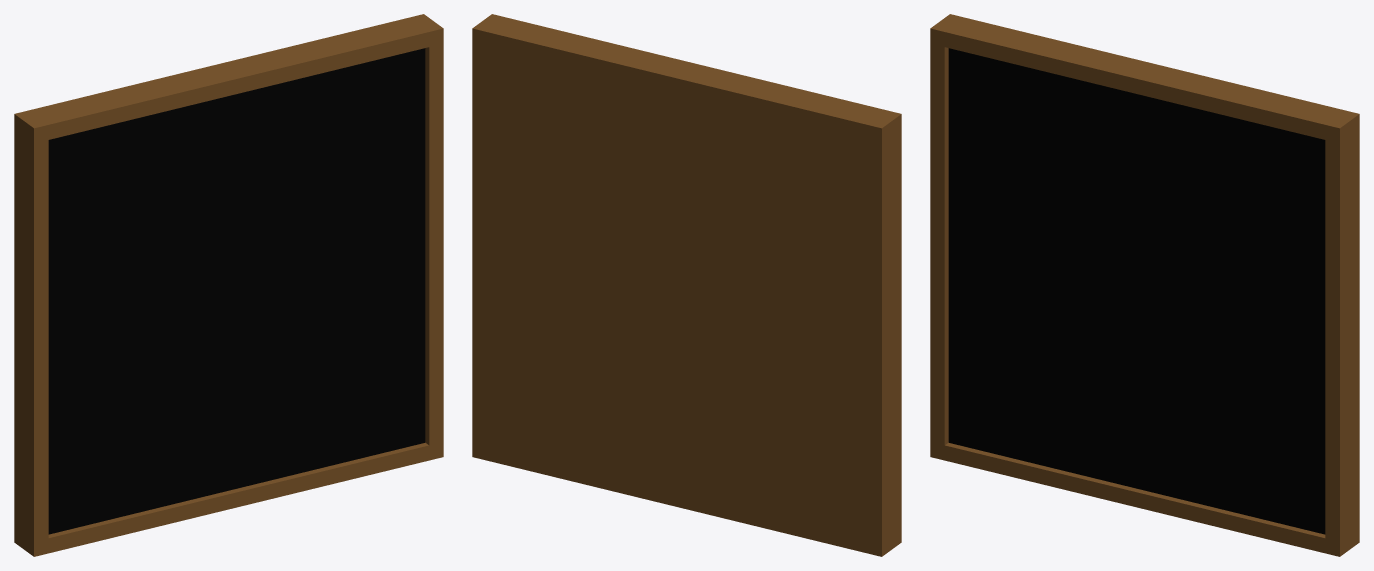
Rendered from pictureframethick.glb.
3 renders of one model, left to right at view 1: azimuth 30°, elevation 25°; view 2: azimuth 150°, elevation 25°; view 3: azimuth 330°, elevation 25°, orthographic.
Parts seen in each view (by area): view 1: Image, Frame; view 2: Frame; view 3: Image, Frame.
Boxes of the visible parts, <box> form: Image: <box>48,48,425,534</box>; Frame: <box>14,14,443,556</box>; Frame: <box>472,14,901,556</box>; Image: <box>948,48,1325,534</box>; Frame: <box>930,14,1359,556</box>.
Bounding box in the file's own units: 2 × 2 × 0.1673.
2 materials, 1 textured.
